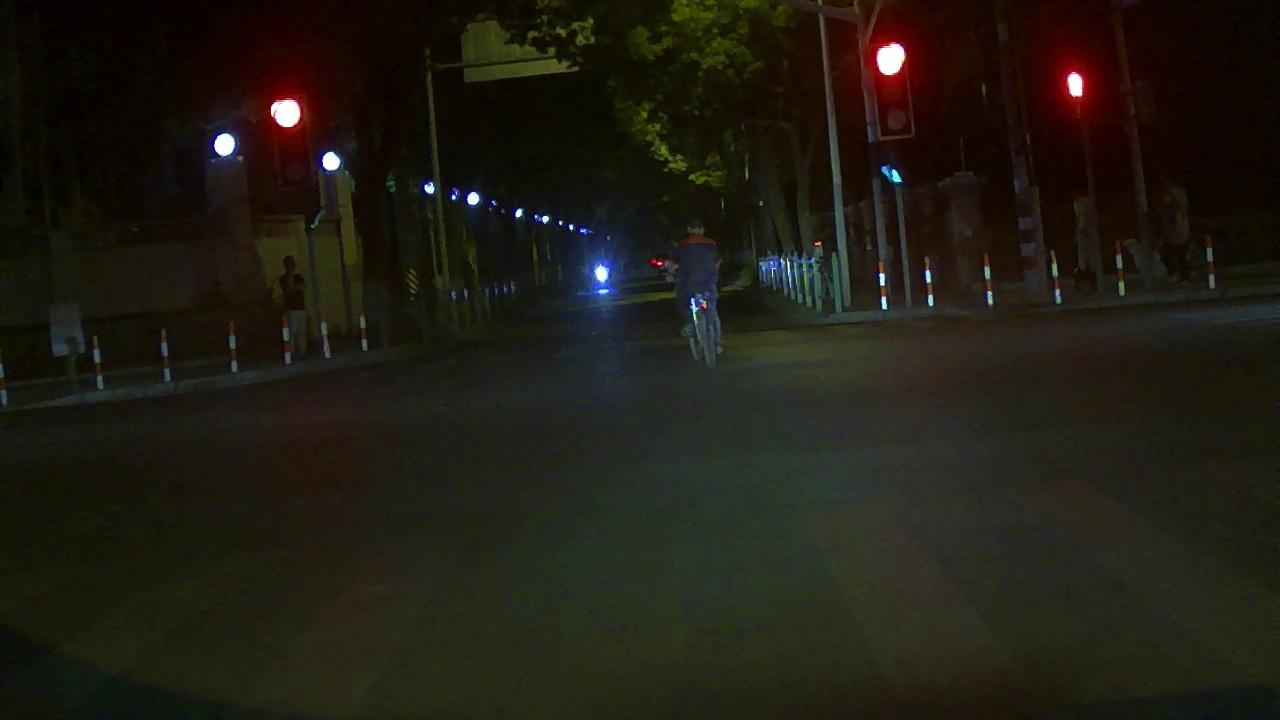traffic_light: (269, 99, 316, 191), (869, 47, 916, 138)
